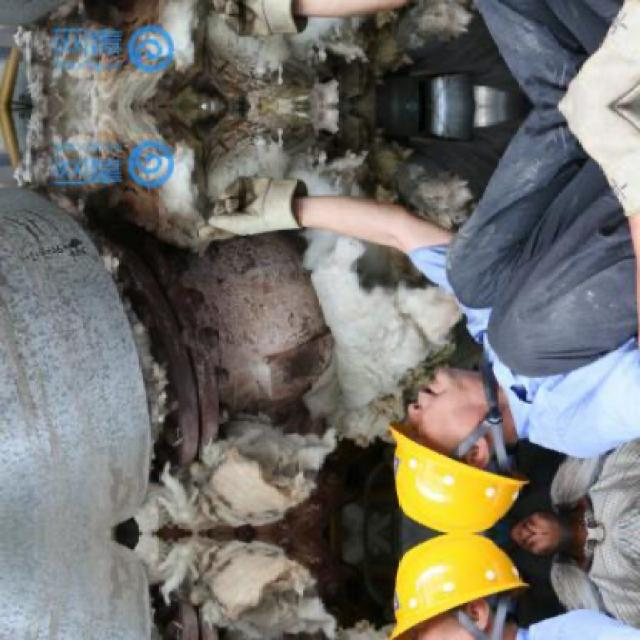con casco: (370, 317, 545, 551)
